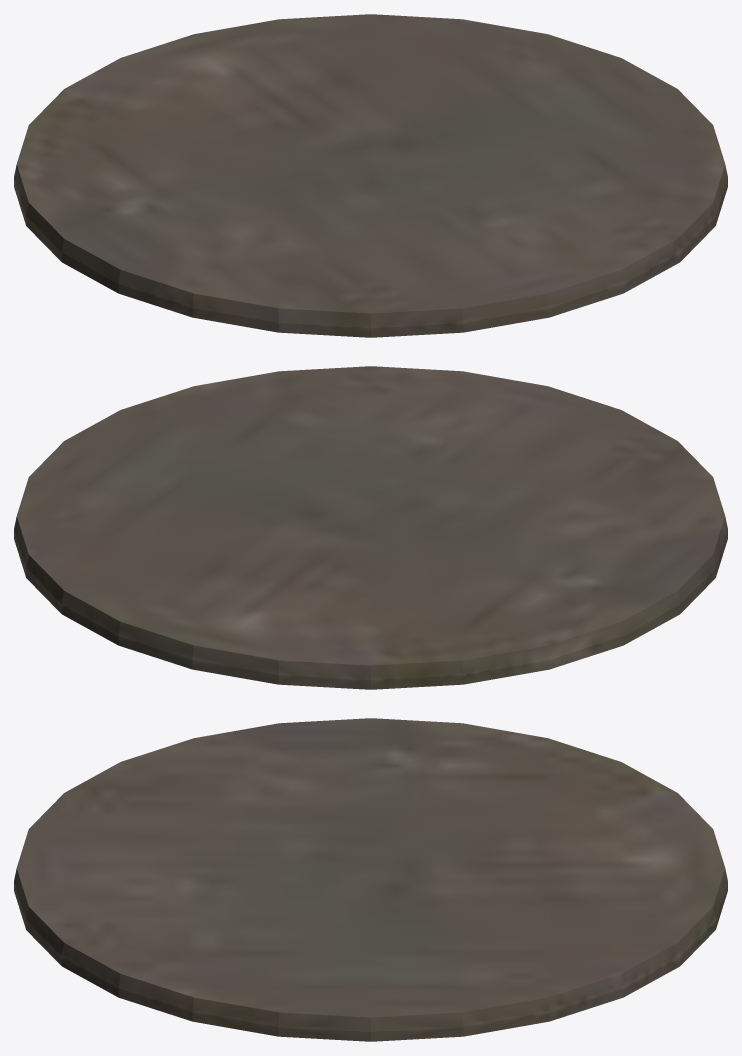
Rendered from Prop_ManholeCover.glb.
3 views of the same model, one above another, from view 1: azimuth 30°, elevation 25°; view 2: azimuth 150°, elevation 25°; view 3: azimuth 270°, elevation 25° (orthographic).
Parts seen in each view (by area): view 1: Prop_ManholeCover; view 2: Prop_ManholeCover; view 3: Prop_ManholeCover.
Boxes of the visible parts, left/top/right/bottom form: Prop_ManholeCover: left=14, top=14, right=727, bottom=337; Prop_ManholeCover: left=14, top=366, right=727, bottom=689; Prop_ManholeCover: left=14, top=718, right=727, bottom=1041.
Bounding box in the file's own units: 0.9251 × 0.033 × 0.9251.
Materials: 1 (1 with a texture image).
